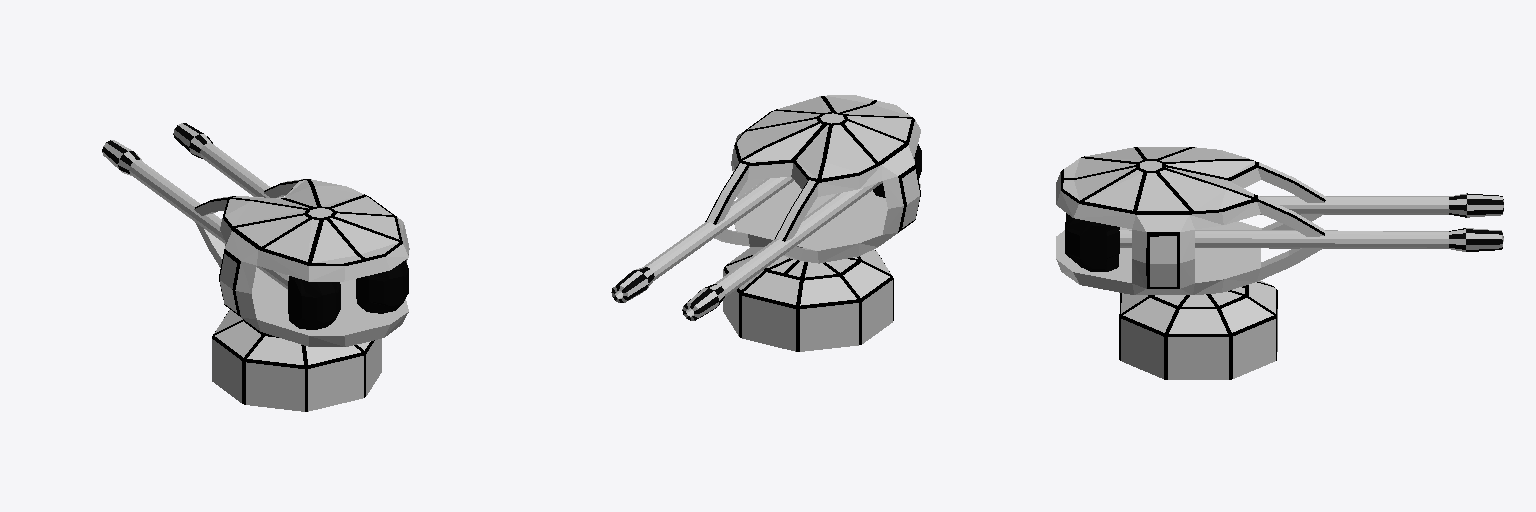
Rendered from flak.obj.
3 views of the same model, side by side, from view 1: azimuth 30°, elevation 25°; view 2: azimuth 150°, elevation 25°; view 3: azimuth 270°, elevation 25° (orthographic).
Visible parts, largest first — view 1: Cube.025_Cube.030, Cylinder.028_Cylinder.015; view 2: Cube.025_Cube.030, Cylinder.028_Cylinder.015; view 3: Cube.025_Cube.030, Cylinder.028_Cylinder.015.
Boxes of the visible parts, x1=… form: Cube.025_Cube.030: x1=194, y1=179, x2=409, y2=411; Cylinder.028_Cylinder.015: x1=102, y1=123, x2=288, y2=289; Cube.025_Cube.030: x1=705, y1=95, x2=921, y2=351; Cylinder.028_Cylinder.015: x1=611, y1=177, x2=882, y2=320; Cube.025_Cube.030: x1=1056, y1=147, x2=1325, y2=379; Cylinder.028_Cylinder.015: x1=1119, y1=193, x2=1503, y2=251.
Size of the model in its own units: 1.13 by 1.11 by 2.49.